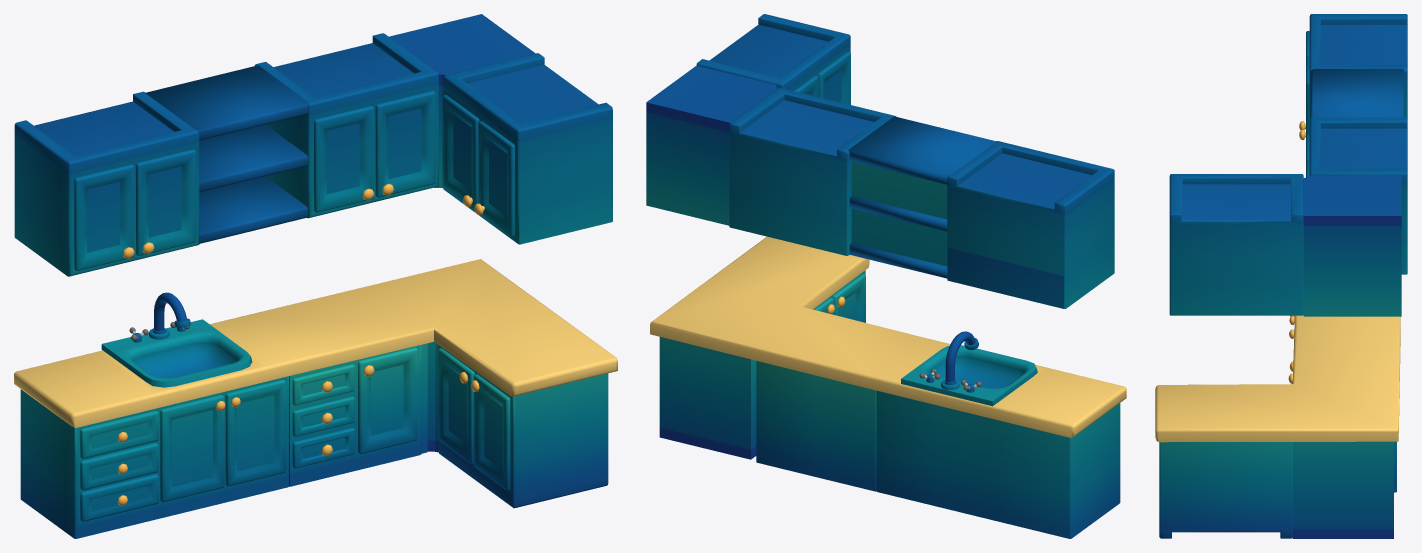
The model's file is BlueKitchen.fbx.
The picture shows the model from 3 angles, left to right: view 1: azimuth 30°, elevation 25°; view 2: azimuth 150°, elevation 25°; view 3: azimuth 270°, elevation 25°; orthographic projection. The views are drawn at different scales.
Visible parts, largest first — view 1: Stand, Cabinet01, UpCabinet, UpCabinet03, Upcabinet02, Cabinet03, CabinetMiddle, Cabinet02, Cabinet04.001, Cabinet04; view 2: Stand, Cabinet01, UpCabinet, Upcabinet02, CabinetMiddle, Cabinet04.001, Cabinet02, Cabinet04, UpCabinet03, Cabinet03; view 3: Stand, UpCabinet03, Cabinet04.001, Cabinet03, Cabinet04, Upcabinet02, UpCabinet, CabinetMiddle.
Part boxes in pixels (x1,y1,x2,y2): Stand: (14, 259, 617, 427); Cabinet01: (20, 376, 288, 538); UpCabinet: (14, 91, 199, 276); UpCabinet03: (442, 53, 612, 244); Upcabinet02: (254, 33, 438, 218); Cabinet03: (437, 344, 608, 508); CabinetMiddle: (145, 65, 308, 243); Cabinet02: (289, 343, 427, 486); Cabinet04.001: (389, 14, 535, 187); Cabinet04: (427, 342, 437, 452); Stand: (650, 236, 1126, 437); Cabinet01: (876, 390, 1120, 538); UpCabinet: (947, 141, 1114, 308); Upcabinet02: (729, 87, 896, 255); CabinetMiddle: (848, 116, 996, 278); Cabinet04.001: (646, 65, 777, 225); Cabinet02: (756, 361, 876, 491); Cabinet04: (659, 337, 756, 459); UpCabinet03: (696, 14, 850, 104); Cabinet03: (813, 270, 865, 322); Stand: (1155, 315, 1400, 442); UpCabinet03: (1169, 174, 1303, 315); Cabinet04.001: (1303, 175, 1401, 316); Cabinet03: (1159, 442, 1292, 538); Cabinet04: (1292, 441, 1393, 538); Upcabinet02: (1306, 117, 1407, 274); UpCabinet: (1299, 14, 1407, 139); CabinetMiddle: (1311, 69, 1403, 117).
Bounding box in the file's own units: 435 × 329 × 228.
